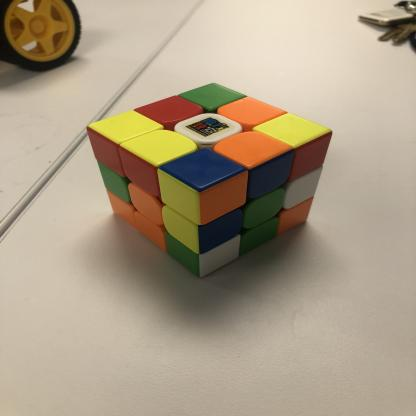UnsolvedCube: (75, 79, 346, 282)
